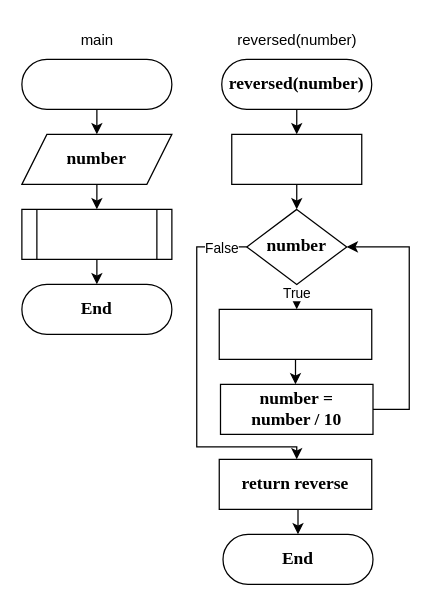
This 441x606 diagram has some shape labels left out. The centre of each missing label's shape, as x and y in pixels:
Beginning: [96,83]
reverse = 0: [296,158]
reverse = reverse * 10 + number % 10: [295,333]
reversed (number): [96,233]
